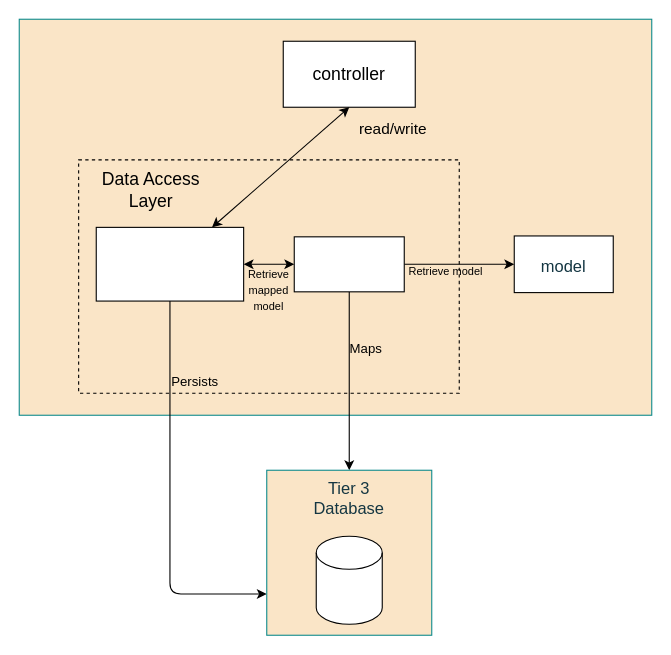
Image size: 671x655. Some labels were removed from this diagram. The centre of each missing label's shape, as x and y in pixels:
Data Mapper: (348,264)
Repository: (169,263)
